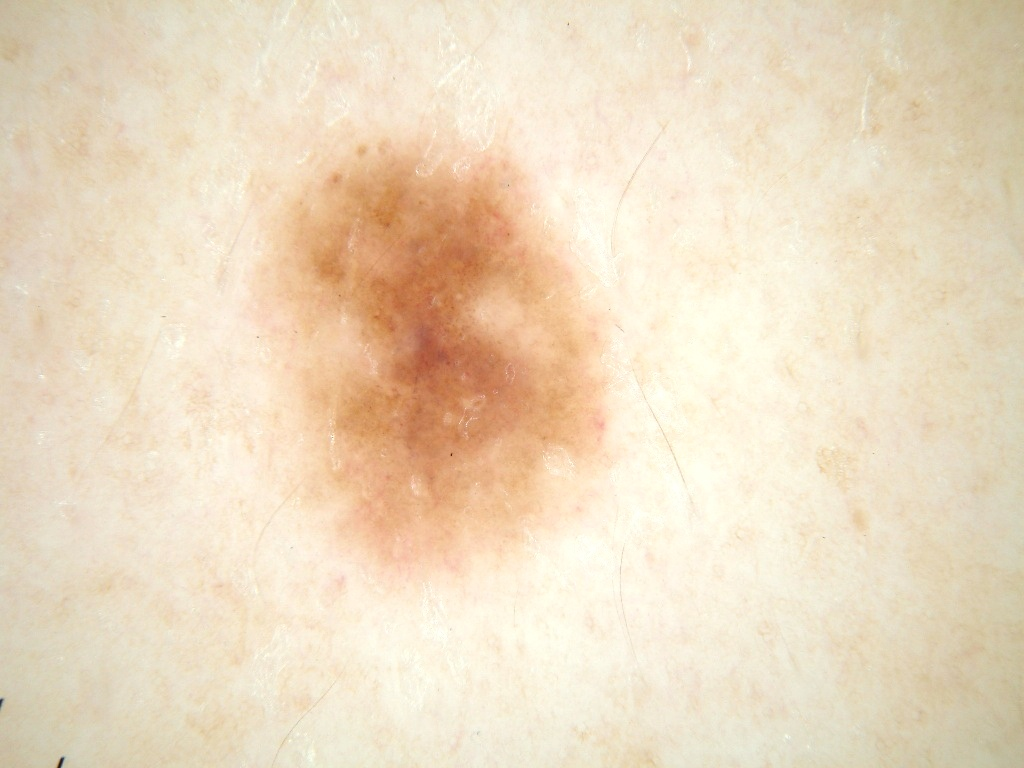Detected Lesion: (263, 130, 614, 551)
